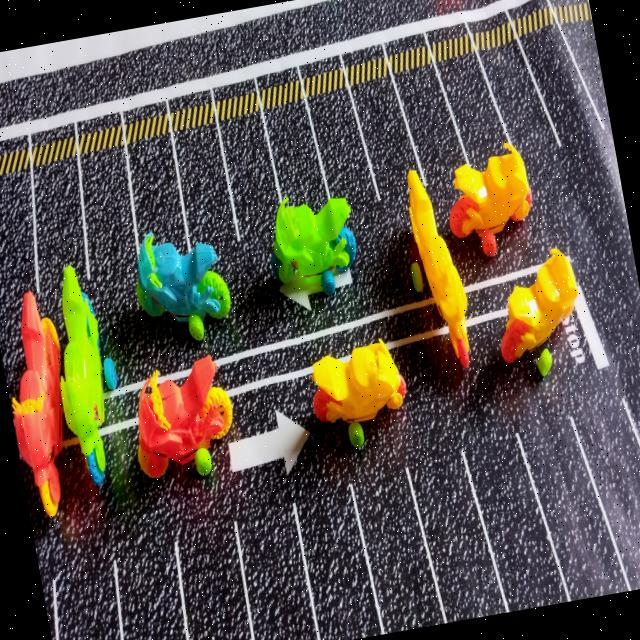bikes: (60, 266, 117, 484), (407, 170, 469, 367), (138, 355, 232, 477), (12, 291, 62, 516), (312, 339, 406, 447), (136, 232, 230, 338), (501, 248, 577, 376), (449, 142, 531, 255), (273, 197, 355, 294)
slots: (464, 421, 566, 609), (527, 419, 626, 598), (412, 449, 502, 619), (356, 469, 442, 631), (297, 487, 380, 640), (574, 404, 640, 586), (520, 24, 608, 148), (240, 510, 316, 640), (481, 40, 556, 156), (308, 87, 377, 212), (394, 65, 463, 186), (174, 125, 237, 256), (80, 143, 136, 290), (438, 53, 506, 169), (179, 531, 250, 640), (34, 157, 86, 304), (220, 111, 278, 238), (354, 82, 416, 199), (128, 133, 188, 251), (264, 99, 327, 210), (119, 540, 186, 640), (56, 552, 119, 640), (0, 169, 34, 303)
